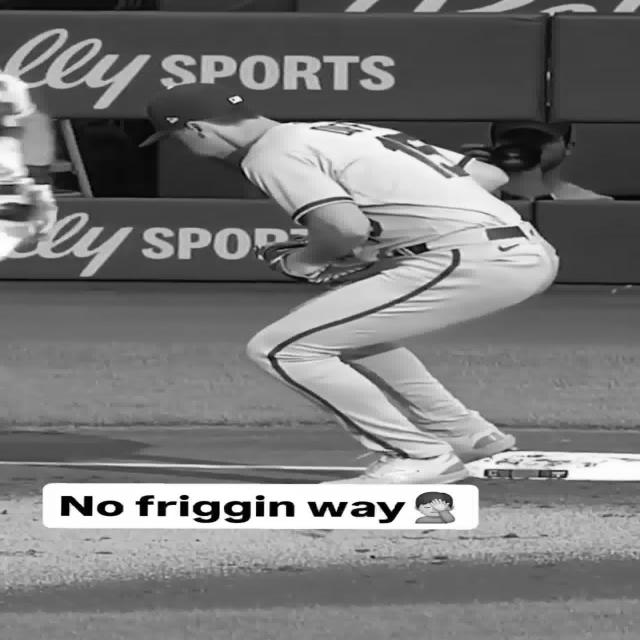base: (467, 451, 640, 481)
baseball_glove: (256, 236, 373, 282)
shoe: (322, 454, 469, 484), (447, 426, 516, 462)
